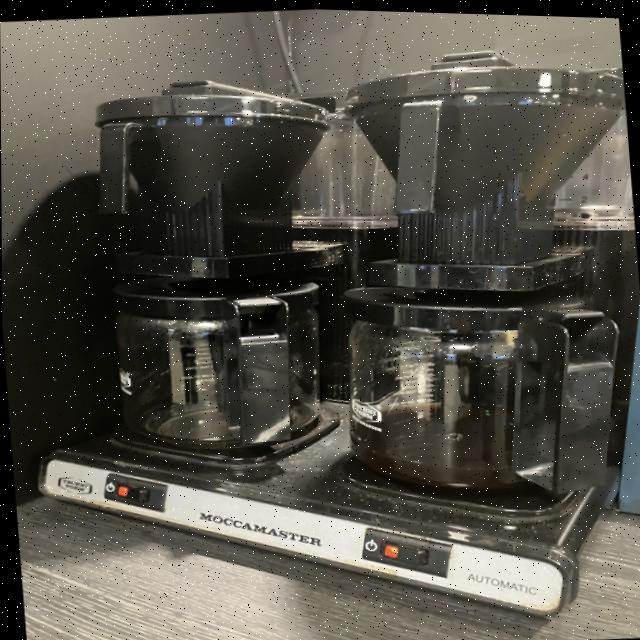nocoffee: (74, 250, 331, 473)
